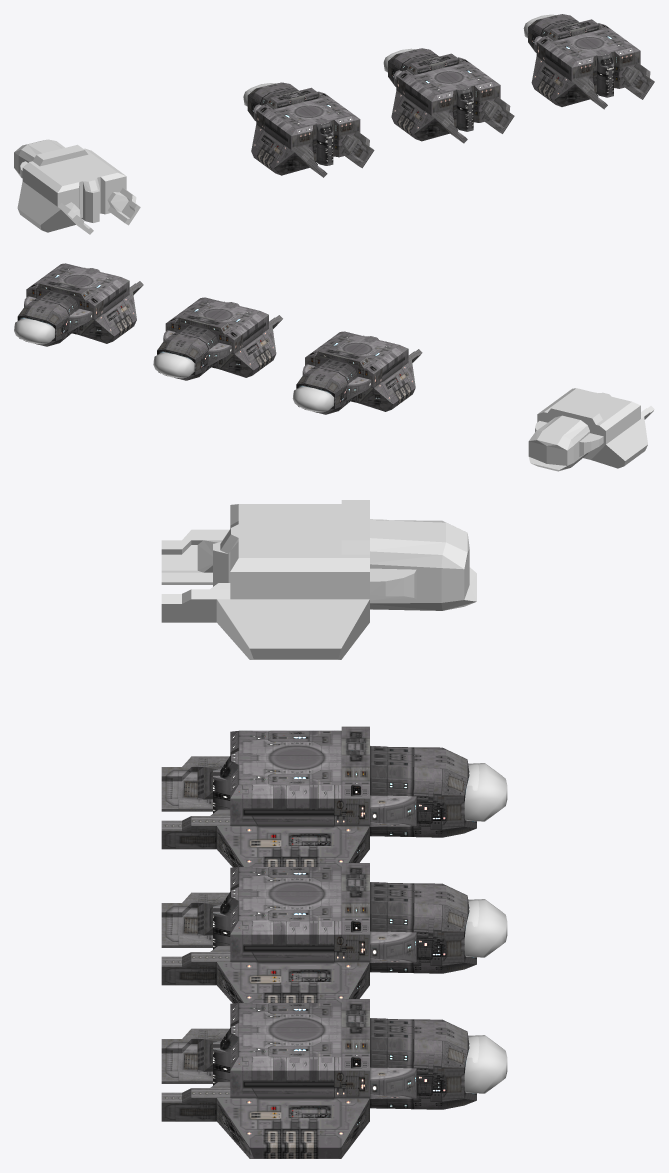
The model's file is smt_destroyer.DAE.
3 views of the same model, one above another, from view 1: azimuth 30°, elevation 25°; view 2: azimuth 150°, elevation 25°; view 3: azimuth 270°, elevation 25° (orthographic). The views are drawn at different scales.
Parts seen in each view (by area): view 1: MULT[root_mesh]_LOD[0], COL[Root], MULT[root_mesh]_LOD[2], MULT[root_mesh]_LOD[1]; view 2: COL[Root], MULT[root_mesh]_LOD[1], MULT[root_mesh]_LOD[0], MULT[root_mesh]_LOD[2], GLOW[EngineGlow5_LOD0]_LOD[1], GLOW[EngineGlow2_LOD0]_LOD[0], GLOW[EngineGlow8_LOD0]_LOD[2]; view 3: COL[Root], MULT[root_mesh]_LOD[2], MULT[root_mesh]_LOD[0], MULT[root_mesh]_LOD[1], GLOW[EngineGlow2_LOD0]_LOD[0], GLOW[EngineGlow5_LOD0]_LOD[1], GLOW[EngineGlow8_LOD0]_LOD[2].
Part boxes in pixels (box(x1,y1,x2,y2)): MULT[root_mesh]_LOD[0]: box(247, 82, 374, 177); COL[Root]: box(14, 139, 140, 234); MULT[root_mesh]_LOD[2]: box(528, 14, 654, 109); MULT[root_mesh]_LOD[1]: box(388, 48, 514, 143); COL[Root]: box(528, 388, 654, 471); MULT[root_mesh]_LOD[1]: box(157, 297, 282, 380); MULT[root_mesh]_LOD[0]: box(296, 331, 422, 414); MULT[root_mesh]_LOD[2]: box(17, 263, 143, 346); GLOW[EngineGlow5_LOD0]_LOD[1]: box(153, 352, 194, 378); GLOW[EngineGlow2_LOD0]_LOD[0]: box(292, 386, 333, 412); GLOW[EngineGlow8_LOD0]_LOD[2]: box(14, 318, 54, 344); COL[Root]: box(161, 500, 476, 659); MULT[root_mesh]_LOD[2]: box(161, 999, 476, 1158); MULT[root_mesh]_LOD[0]: box(161, 726, 476, 867); MULT[root_mesh]_LOD[1]: box(161, 863, 476, 1003); GLOW[EngineGlow2_LOD0]_LOD[0]: box(464, 763, 507, 821); GLOW[EngineGlow5_LOD0]_LOD[1]: box(464, 899, 507, 957); GLOW[EngineGlow8_LOD0]_LOD[2]: box(464, 1035, 507, 1093).
Size of the model in its own units: 998 by 80.31 by 247.
23 materials, 23 textured.
